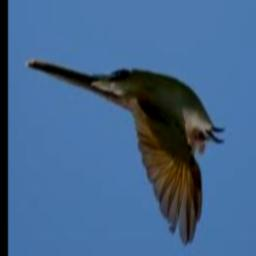Cuckoo: (26, 59, 225, 246)
